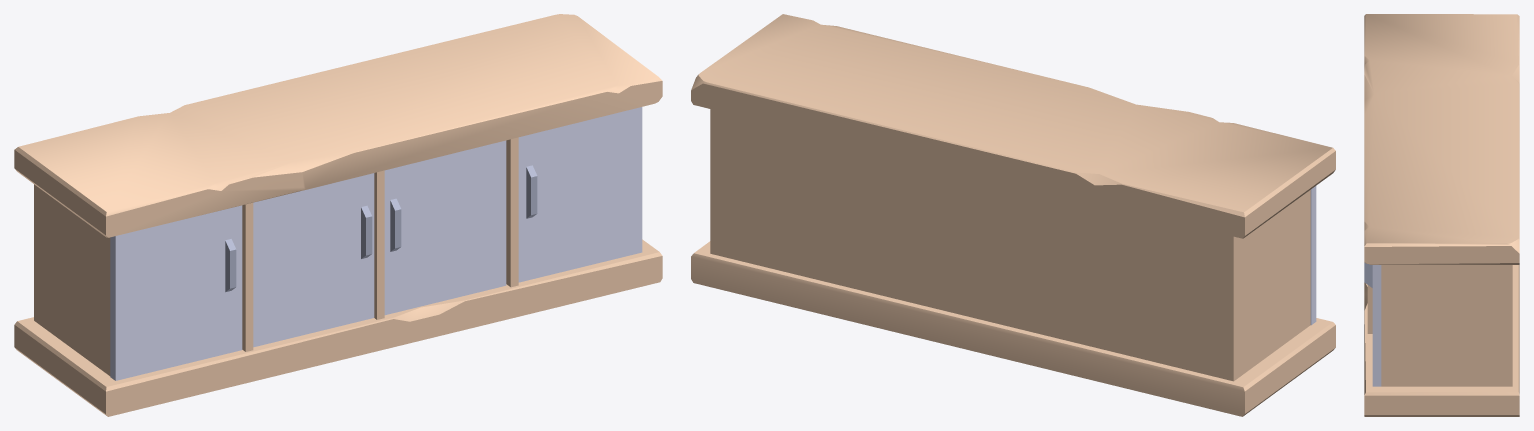
File: FloorCabinet.FBX
3 renders of one model, left to right at view 1: azimuth 30°, elevation 25°; view 2: azimuth 150°, elevation 25°; view 3: azimuth 270°, elevation 25°, orthographic. The views are drawn at different scales.
Visible parts, largest first — view 1: Object001; view 2: Object001; view 3: Object001.
Part boxes in pixels (left/top/right/bottom): Object001: left=14, top=14, right=662, bottom=416; Object001: left=691, top=14, right=1335, bottom=416; Object001: left=1364, top=14, right=1519, bottom=416.
Size of the model in its own units: 62.22 by 21.84 by 17.72.
